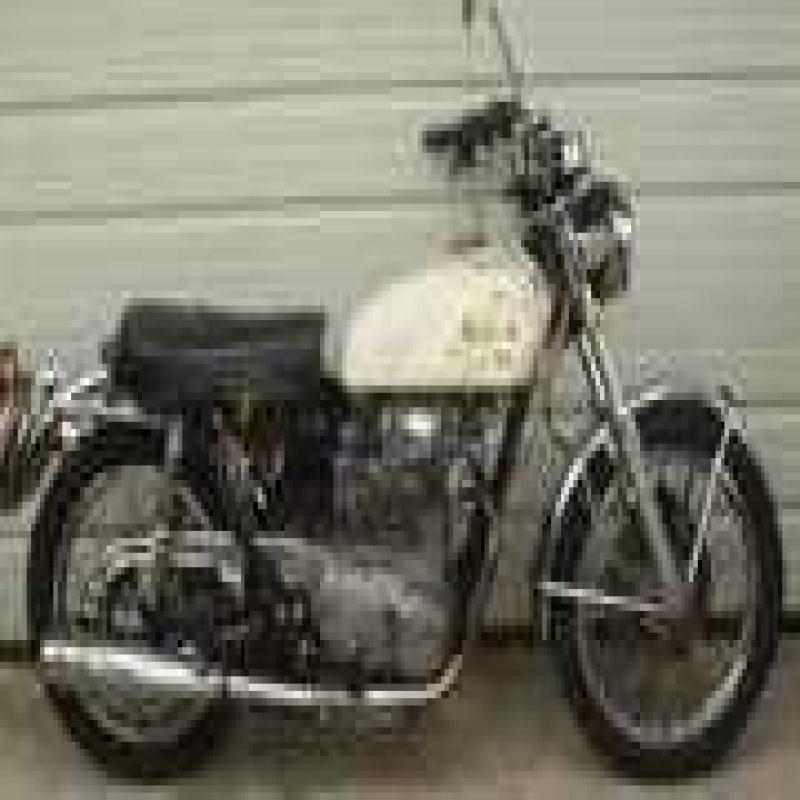bike: (17, 18, 800, 760)
